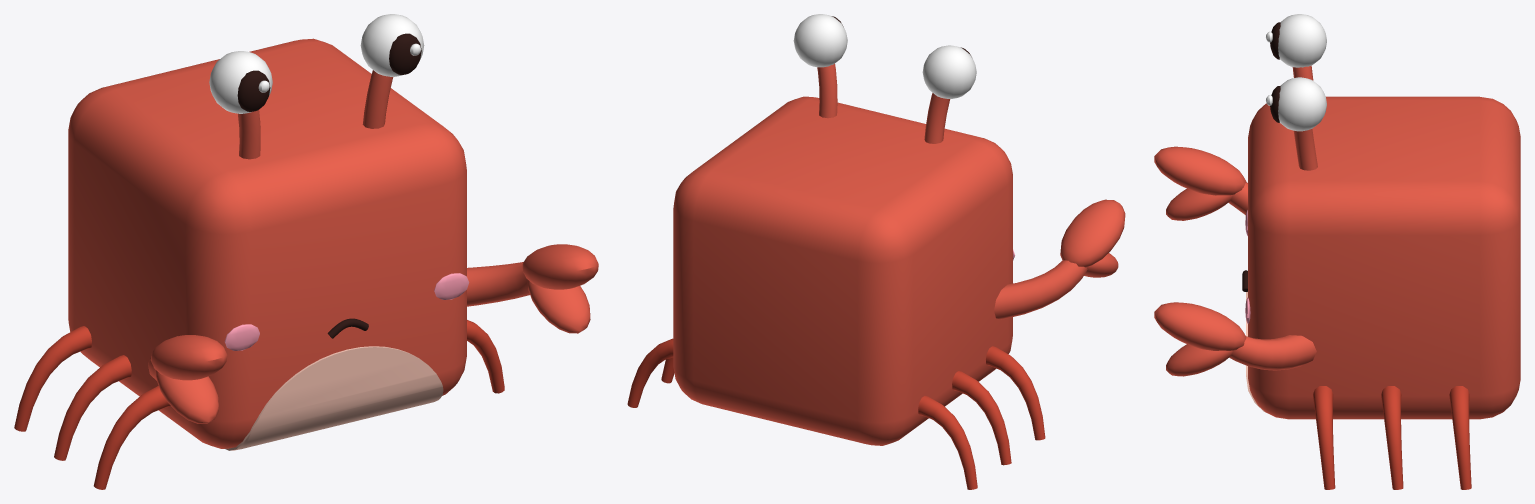
File: Crab.glb
The picture shows the model from 3 angles, left to right: view 1: azimuth 30°, elevation 25°; view 2: azimuth 150°, elevation 25°; view 3: azimuth 270°, elevation 25°; orthographic projection. The views are drawn at different scales.
Parts seen in each view (by area): view 1: Crab; view 2: Crab; view 3: Crab.
Part boxes in pixels (x1,y1,x2,y2): Crab: [14, 14, 598, 489]; Crab: [627, 14, 1125, 489]; Crab: [1154, 14, 1520, 489].
Bounding box in the file's own units: 3.09 × 2.9 × 2.69.
Materials: 1 (1 with a texture image).
